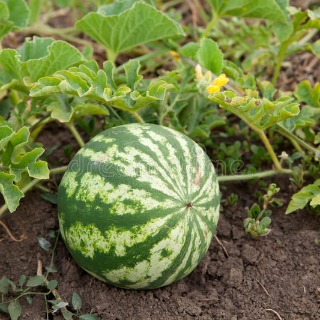dua_hau: (54, 121, 226, 295)
